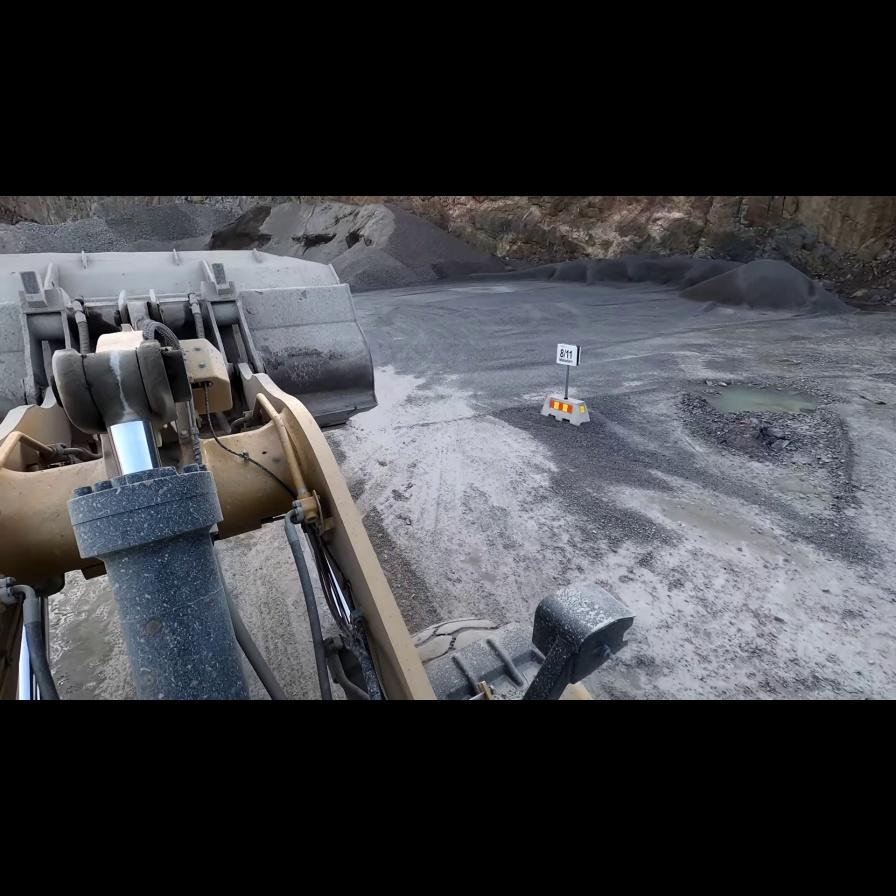anchor: (50, 334, 192, 487)
pile of gravel: (0, 193, 499, 290), (504, 241, 853, 318)
